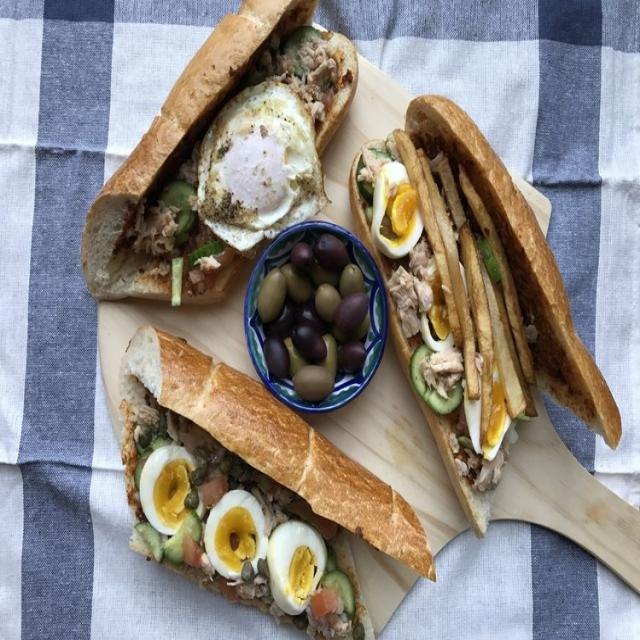Sandwitch tounsi: (351, 97, 621, 535), (121, 331, 433, 637), (81, 0, 358, 305)
